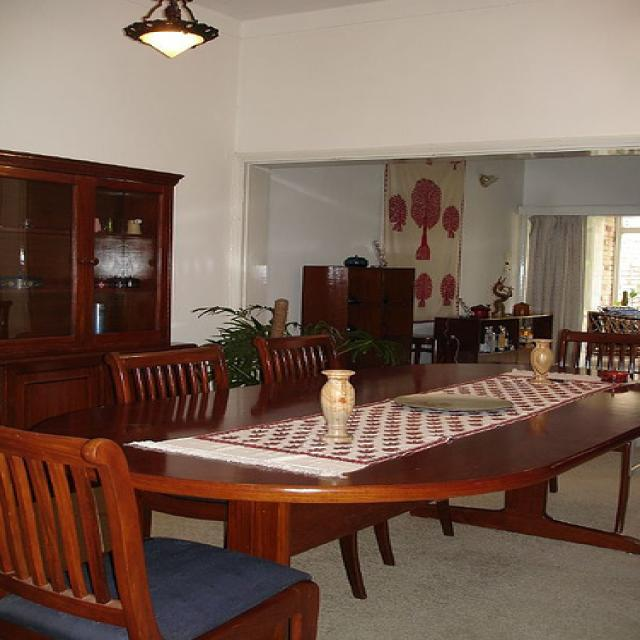chair: (1, 426, 322, 640), (103, 344, 368, 600), (255, 331, 455, 567), (547, 329, 639, 536)
diningtable: (29, 363, 640, 640)
